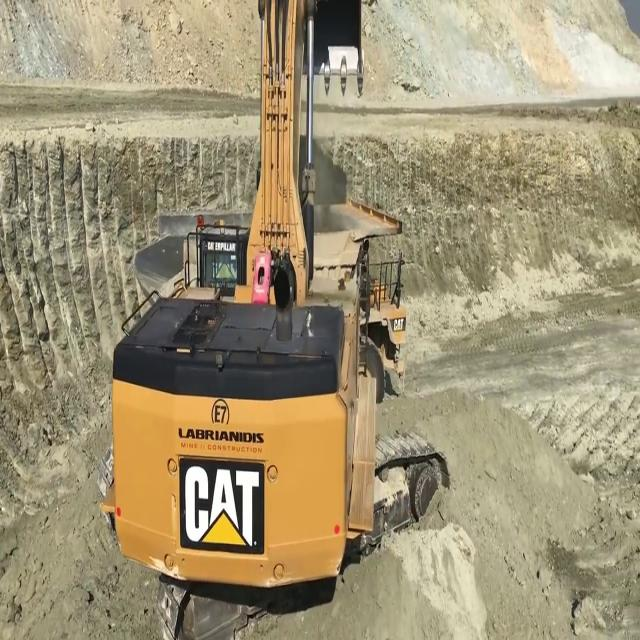excavator: (109, 1, 460, 607)
